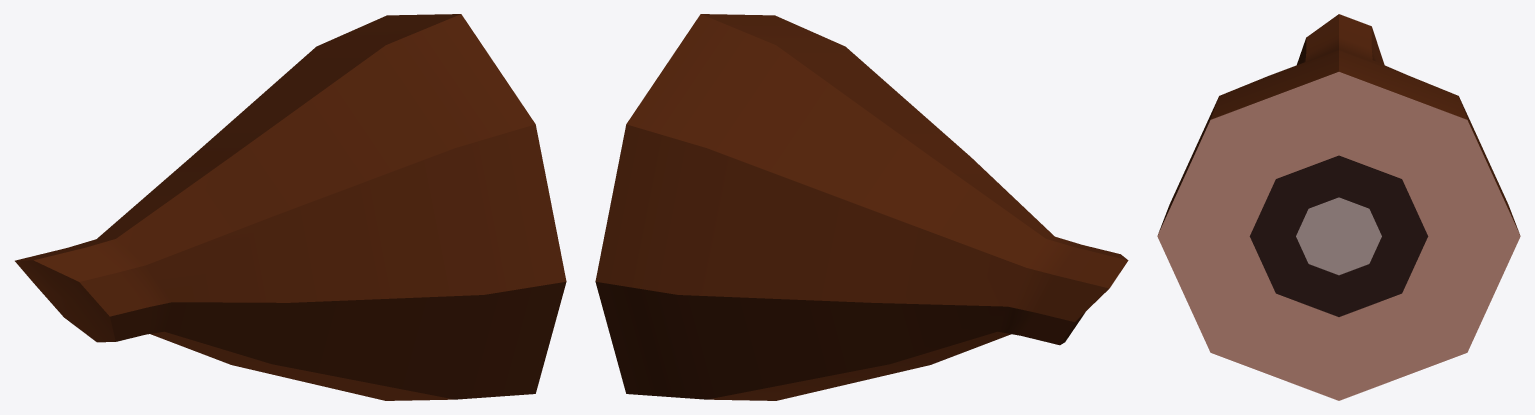
The model's file is SM_SingleHam.fbx.
3 views of the same model, side by side, from view 1: azimuth 30°, elevation 25°; view 2: azimuth 150°, elevation 25°; view 3: azimuth 270°, elevation 25° (orthographic). The views are drawn at different scales.
Parts seen in each view (by area): view 1: SM_Ham; view 2: SM_Ham; view 3: SM_Ham.
Boxes of the visible parts, left/top/right/bottom form: SM_Ham: left=15, top=14, right=566, bottom=400; SM_Ham: left=595, top=14, right=1128, bottom=400; SM_Ham: left=1157, top=14, right=1520, bottom=400.
Size of the model in its own units: 0.4997 by 0.4256 by 0.4256.
